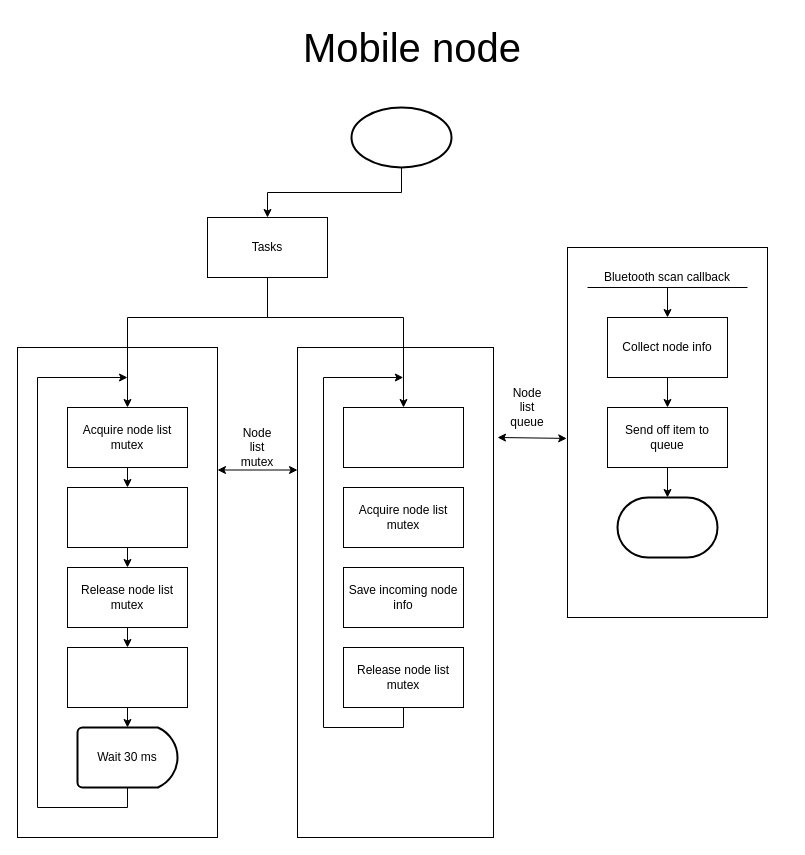
The diagram is 805 pixels wide and 855 high, and some of its shapes have lost their labels. Each missing label, with the centre of its shape:
"Change advertising packet" goes at point (127, 677).
"End" goes at point (667, 527).
"Save new info" goes at point (127, 517).
"Start" goes at point (401, 137).
"Wait for queue item" goes at point (403, 437).
